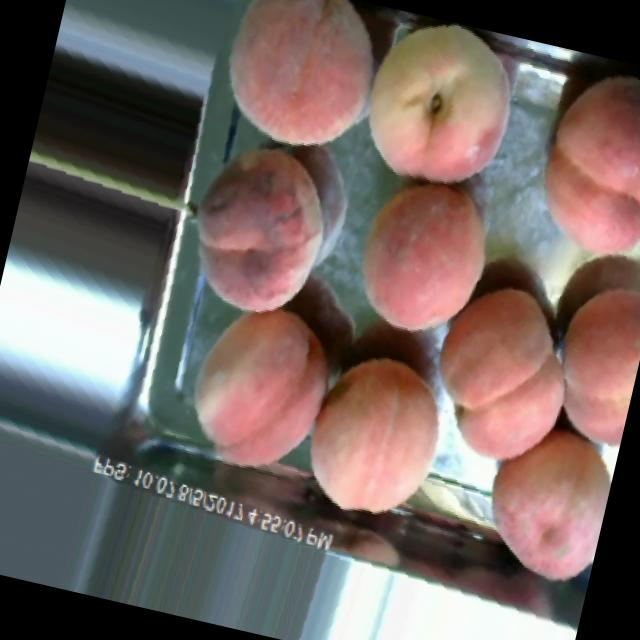Fruit: (157, 115, 360, 338), (343, 7, 539, 215), (330, 150, 524, 358), (168, 282, 348, 490), (294, 333, 468, 537), (195, 0, 394, 177), (457, 402, 623, 603), (506, 48, 640, 283), (414, 256, 578, 439), (539, 259, 640, 463)
